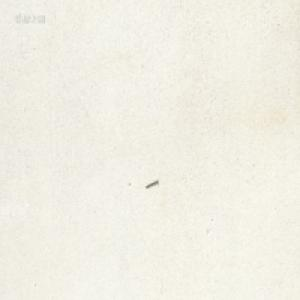Bolt: (144, 178, 158, 188)
